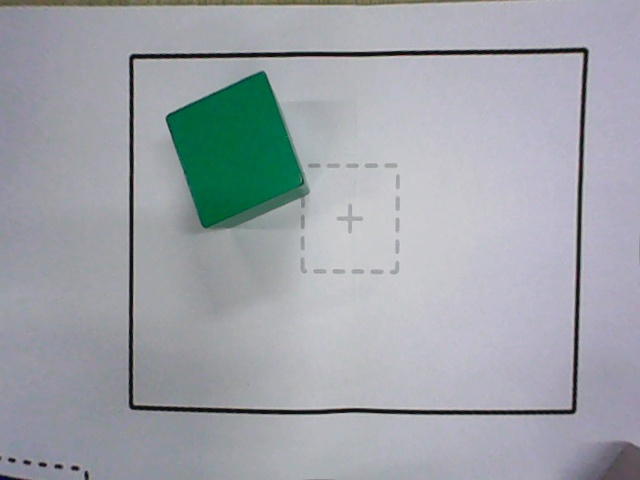upside of big cube: (166, 72, 305, 230)
